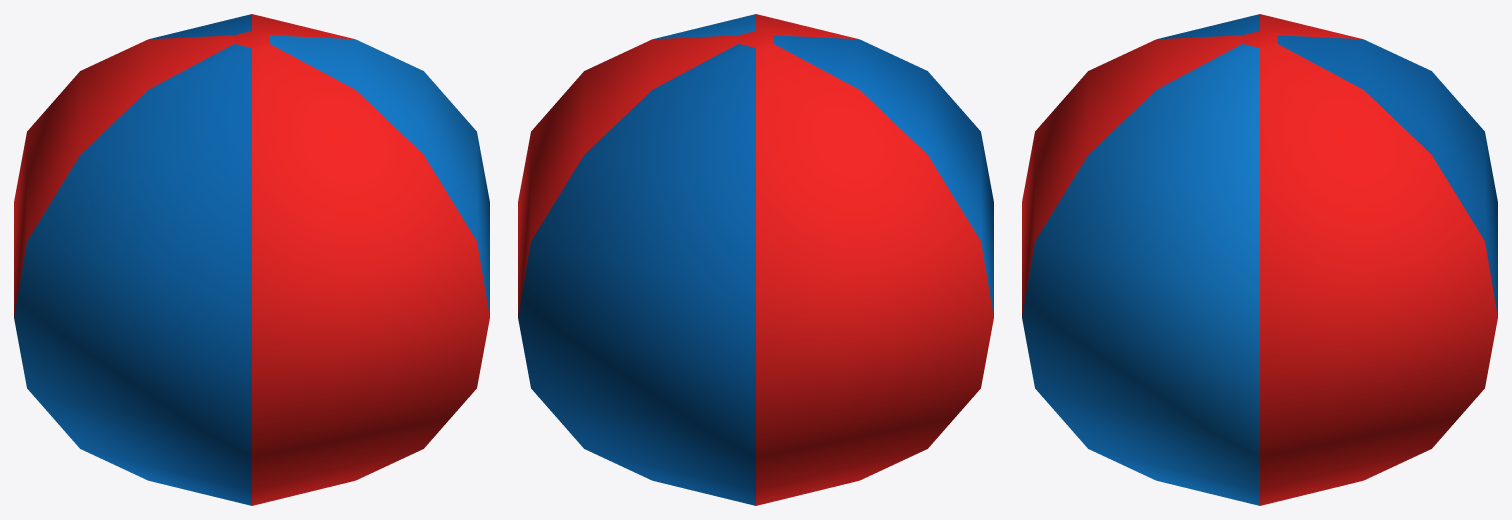
The model's file is SM_Ball_01.fbx.
The picture shows the model from 3 angles, left to right: view 1: azimuth 30°, elevation 25°; view 2: azimuth 150°, elevation 25°; view 3: azimuth 270°, elevation 25°; orthographic projection.
Parts seen in each view (by area): view 1: SM_Ball_01; view 2: SM_Ball_01; view 3: SM_Ball_01.
Part boxes in pixels (<box>): SM_Ball_01: <box>14,14,489,505</box>; SM_Ball_01: <box>518,14,993,505</box>; SM_Ball_01: <box>1022,14,1497,505</box>.
Size of the model in its own units: 35.46 by 31.39 by 30.71.
1 material, 1 textured.
